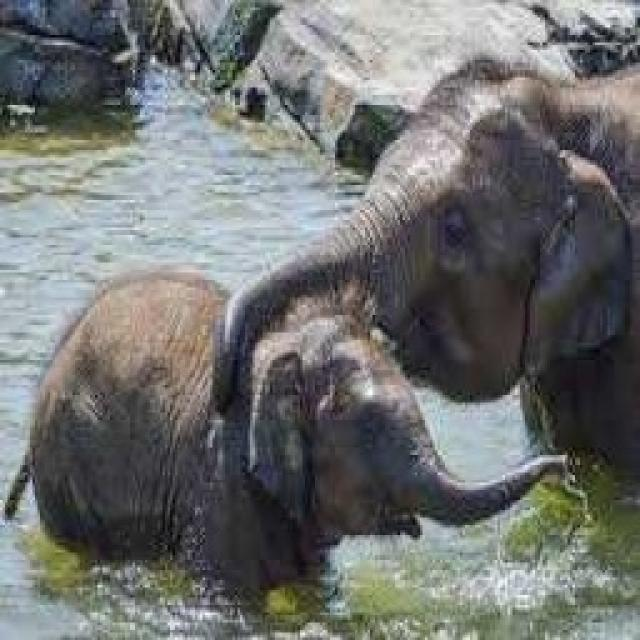not_pig: (0, 262, 568, 612), (209, 54, 640, 467)
